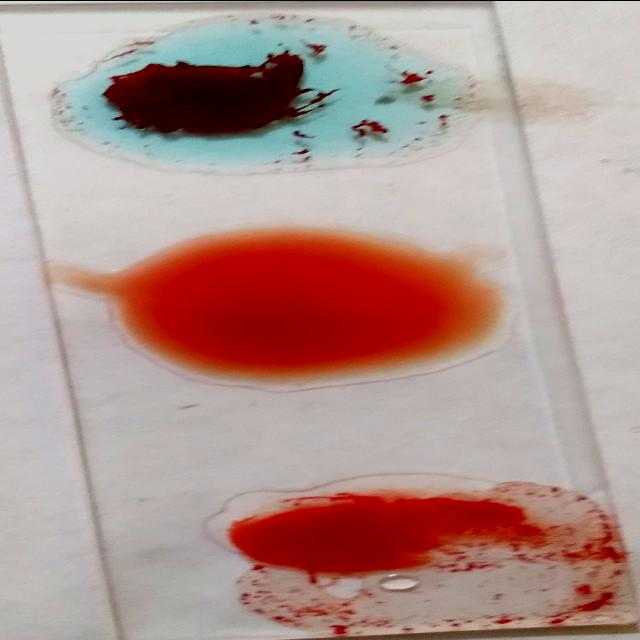A: (58, 24, 470, 166)
D: (222, 482, 628, 628)
